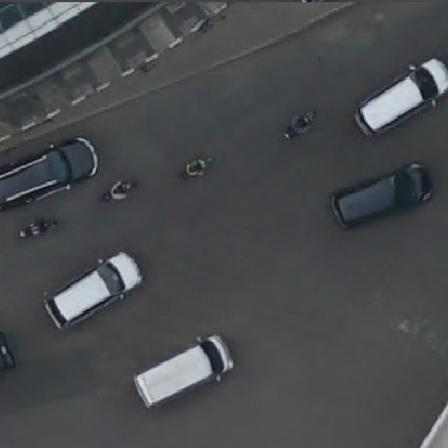Car: (2, 136, 95, 203), (49, 255, 141, 319), (136, 337, 229, 400), (357, 63, 448, 125), (337, 165, 430, 219)
Motorcycle: (282, 106, 318, 142), (13, 217, 58, 241), (100, 179, 146, 200), (177, 155, 216, 179)
